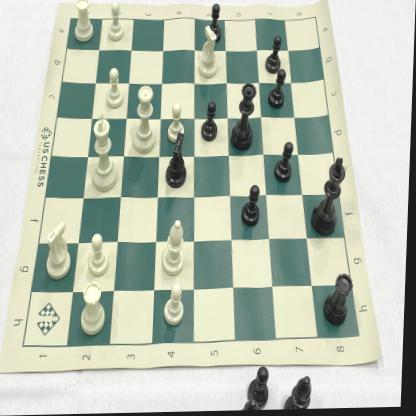black-king: (313, 155, 349, 241)
black-knight: (163, 132, 193, 191)
black-pawn: (240, 182, 267, 232), (198, 96, 222, 145), (274, 142, 297, 187), (263, 32, 285, 78), (266, 66, 288, 112), (206, 2, 226, 47)
black-queen: (230, 80, 260, 155)
black-rook: (323, 271, 358, 331)
white-bishop: (159, 217, 189, 279)
white-king: (88, 111, 122, 197)
white-knight: (43, 218, 76, 282), (194, 20, 223, 83)
white-pawn: (86, 231, 114, 280), (164, 282, 191, 330), (103, 64, 126, 112), (165, 102, 189, 144), (105, 0, 127, 42)
white-queen: (130, 79, 161, 158)
white-rook: (78, 279, 115, 341), (70, 0, 97, 46)
